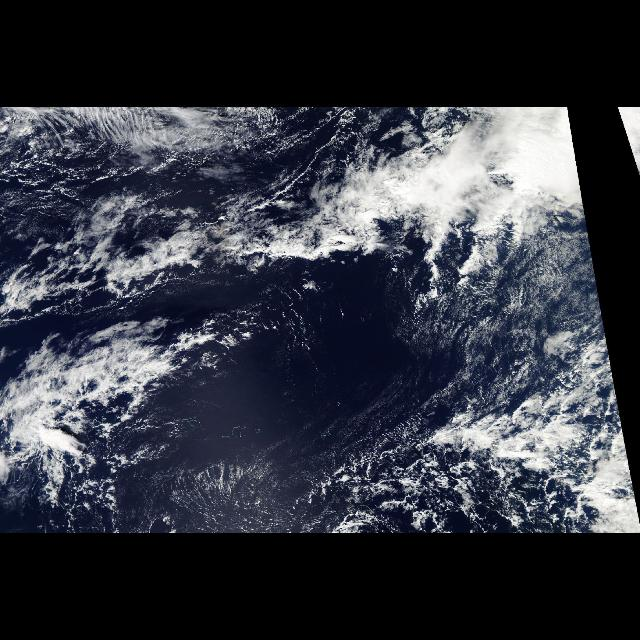Sugar: (412, 293, 568, 409), (151, 466, 321, 528)
